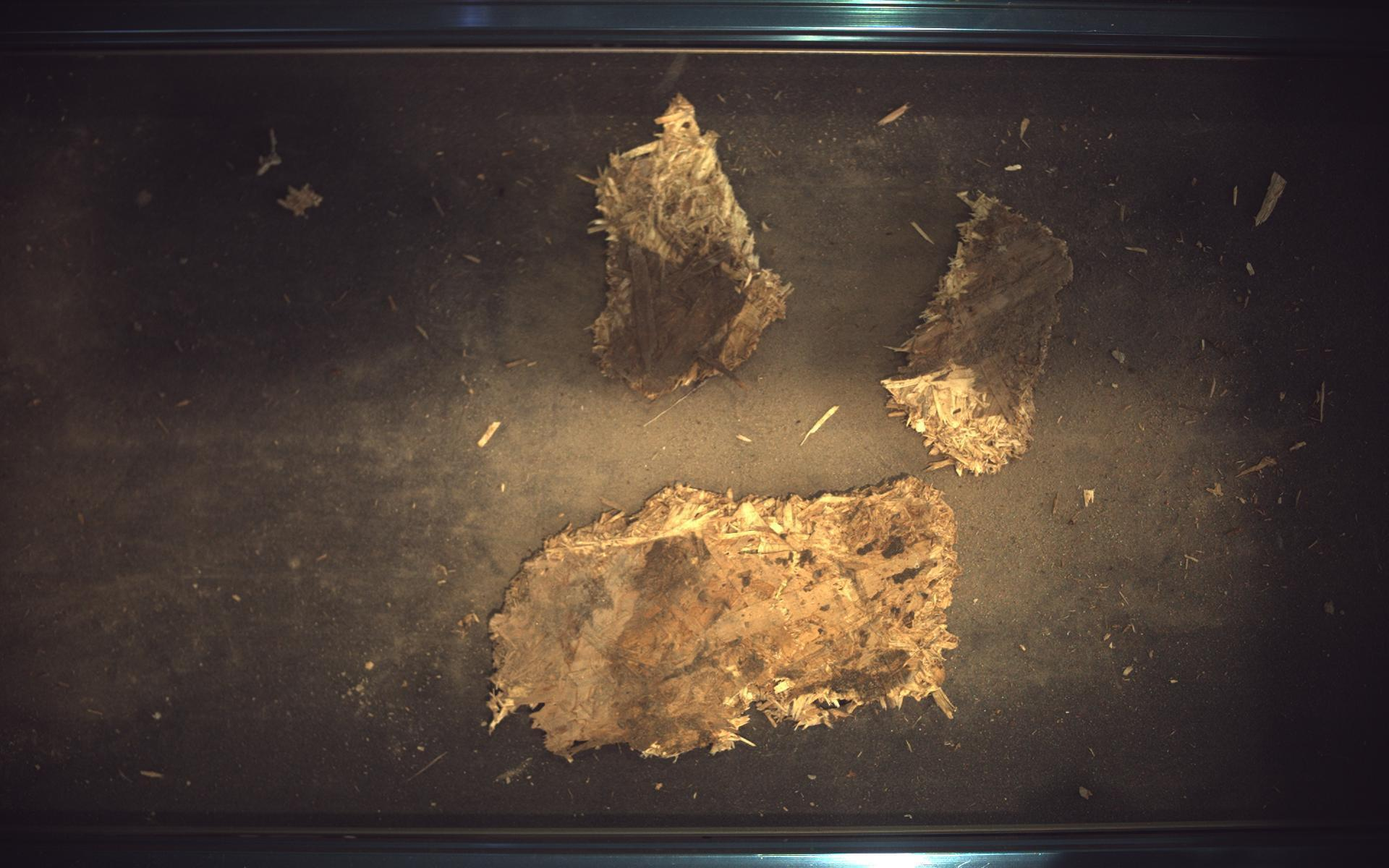wood: (489, 477, 960, 760), (589, 94, 794, 399), (883, 191, 1075, 475)
